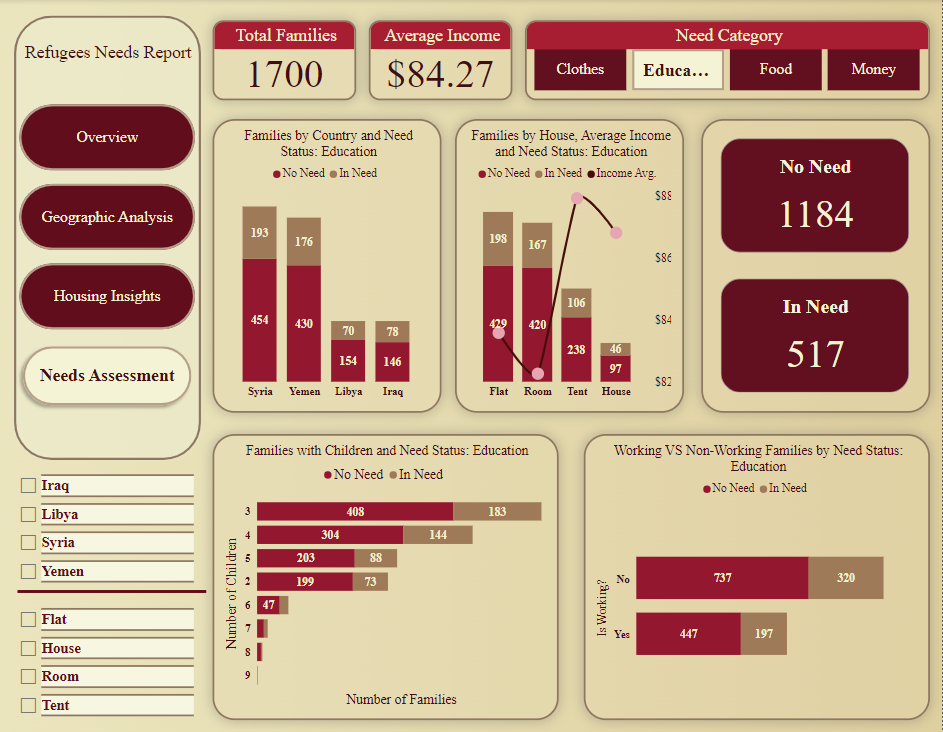

This screenshot's page, from the dashboard's own definition file:
{"tool":"powerbi","page":{"name":"Needs Assessment","canvas":[1280,1000],"ordinal":3},"visuals":[{"type":"card","title":"Average Income","fields":{"Values":["Avg(Needs.Income)"]},"box":[501,28.9,195.3,108.7],"z":0},{"type":"card","title":"Total Families","fields":{"Values":["Count(Needs.Name)"]},"box":[288.7,28.9,195.3,108.7],"z":1000},{"type":"shape","box":[15.3,18.7,261.6,611.4],"z":2000},{"type":"columnChart","fields":{"Y":["Measures_.S_No","Measures_.S_Yes"],"Category":["Needs.Country"]},"box":[288.7,163,310.8,399.1],"z":3000},{"type":"lineStackedColumnComboChart","fields":{"Y":["Measures_.S_No","Measures_.S_Yes"],"Y2":["Avg(Needs.Income)"],"Category":["Needs.House"]},"box":[618,163,310.8,399.1],"z":4000},{"type":"cardVisual","title":"Working VS Non-Working (Families)","fields":{"Data":["Measures_.S_No","Measures_.S_Yes"]},"box":[952.8,163,310.8,399.1],"z":5000},{"type":"barChart","fields":{"Category":["Needs.Under 18 "],"Y":["Measures_.S_No","Measures_.S_Yes"]},"box":[288.7,591,470,388.9],"z":6000},{"type":"barChart","fields":{"Category":["Needs.Is Working?"],"Y":["Measures_.S_No","Measures_.S_Yes"]},"box":[793,591,470,388.9],"z":7000},{"type":"shape","box":[23.8,798,256.5,13.6],"z":8000},{"type":"textbox","box":[22.1,54.3,249.7,42.5],"z":9000},{"type":"pageNavigator","box":[22.1,118.9,248,443.3],"z":10000},{"type":"slicer","fields":{"Values":["Needs.Country"]},"box":[15.3,636.9,253.1,168.1],"z":11000},{"type":"slicer","fields":{"Values":["Needs.House"]},"box":[15,818,253,168],"z":12000},{"type":"advancedSlicerVisual","title":"Need Category","fields":{"Values":["Needs_Types.Values"]},"box":[713.3,28.9,550.3,108.7],"z":13000}]}

Visuals, with their boxes in screenshot pixels (x1, y1, x2, y2), scaled from the page's 1280x1000 canvas onto the 943x732 screenshot:
"Average Income" card: (left=369, top=21, right=513, bottom=101)
"Total Families" card: (left=213, top=21, right=357, bottom=101)
shape: (left=11, top=14, right=204, bottom=461)
columnChart - Measures_.S_No x Measures_.S_Yes: (left=213, top=119, right=442, bottom=411)
lineStackedColumnComboChart - Measures_.S_No x Measures_.S_Yes: (left=455, top=119, right=684, bottom=411)
"Working VS Non-Working (Families)" cardVisual: (left=702, top=119, right=931, bottom=411)
barChart - Needs.Under 18  x Measures_.S_No: (left=213, top=433, right=559, bottom=717)
barChart - Needs.Is Working? x Measures_.S_No: (left=584, top=433, right=930, bottom=717)
shape: (left=18, top=584, right=207, bottom=594)
textbox: (left=16, top=40, right=200, bottom=71)
pageNavigator: (left=16, top=87, right=199, bottom=412)
slicer - Needs.Country: (left=11, top=466, right=198, bottom=589)
slicer - Needs.House: (left=11, top=599, right=197, bottom=722)
"Need Category" advancedSlicerVisual: (left=526, top=21, right=931, bottom=101)
